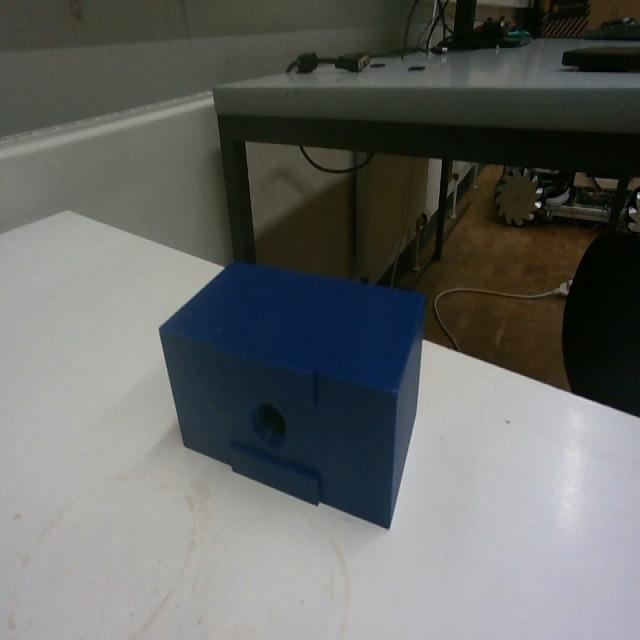Blue Cuboid: (156, 255, 428, 529)
